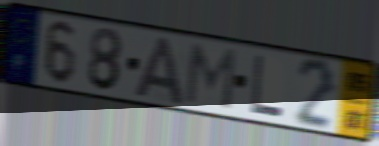2: (294, 55, 341, 133)
6: (43, 19, 78, 87)
8: (85, 25, 124, 94)
A: (132, 34, 186, 107)
L: (249, 53, 285, 120)
M: (183, 41, 238, 113)
